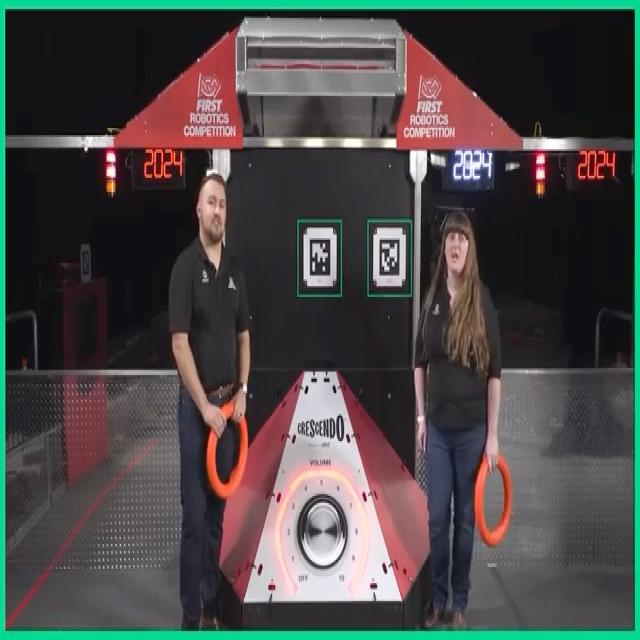note: (206, 402, 251, 500), (473, 453, 513, 546)
